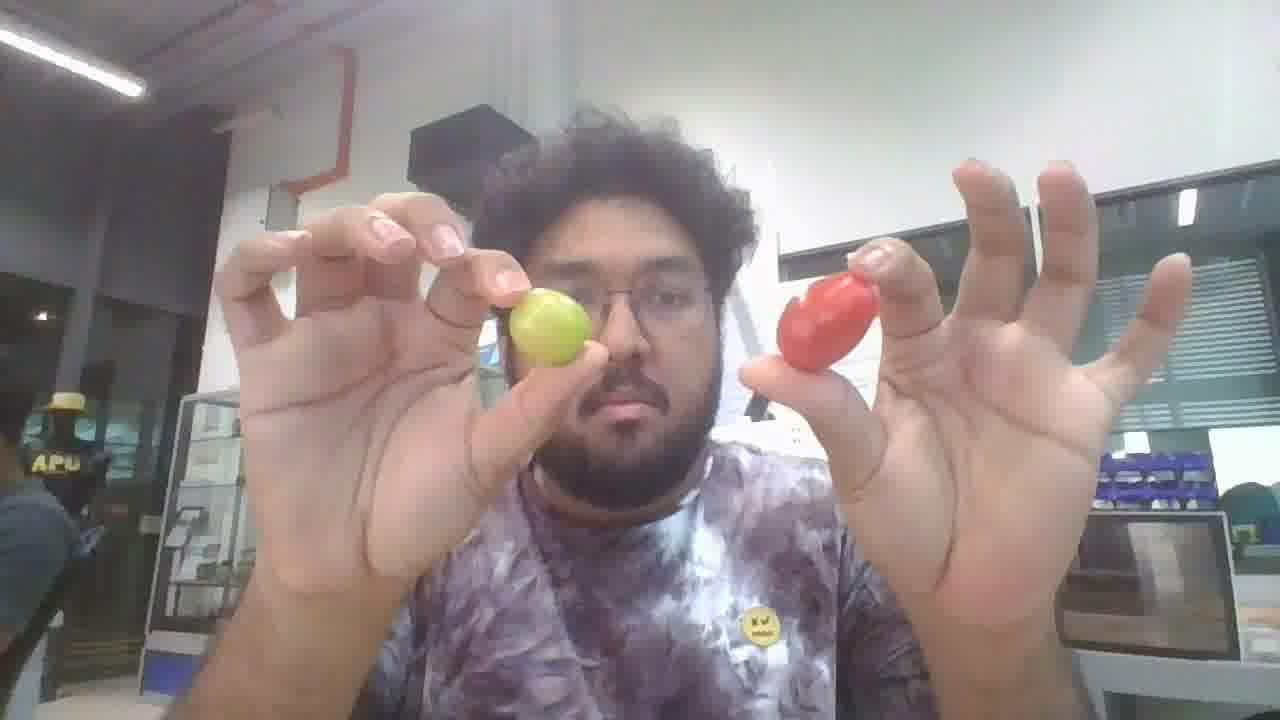green_cherry_tomato: (508, 288, 592, 366)
red_cherry_tomato: (776, 271, 878, 372)
